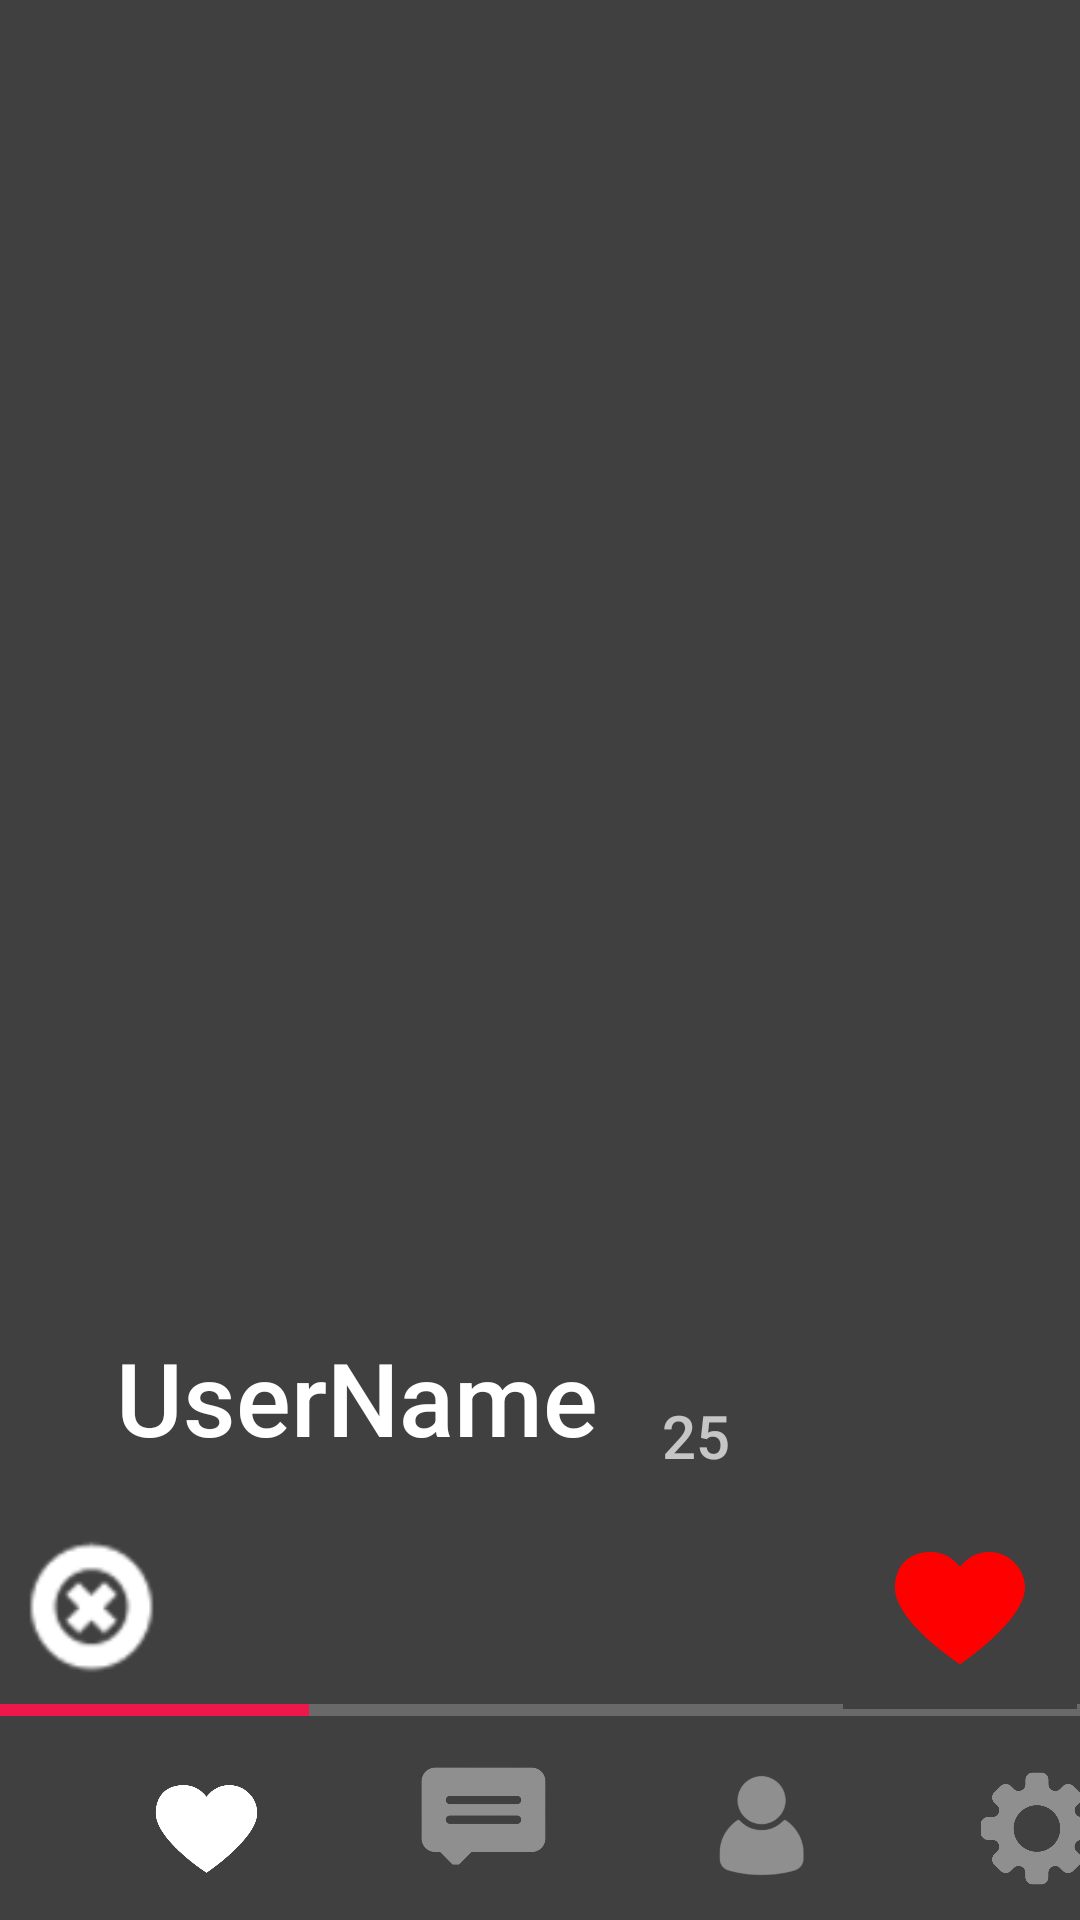

Screen size 1080 x 1920. Icon name, then its box in pixels as (x1, y1, x2, y2):
heart: (895, 1552, 1025, 1664), (156, 1785, 257, 1873)
mes: (421, 1767, 545, 1865)
notification clear all: (30, 1542, 153, 1671)
pep: (720, 1776, 804, 1875)
